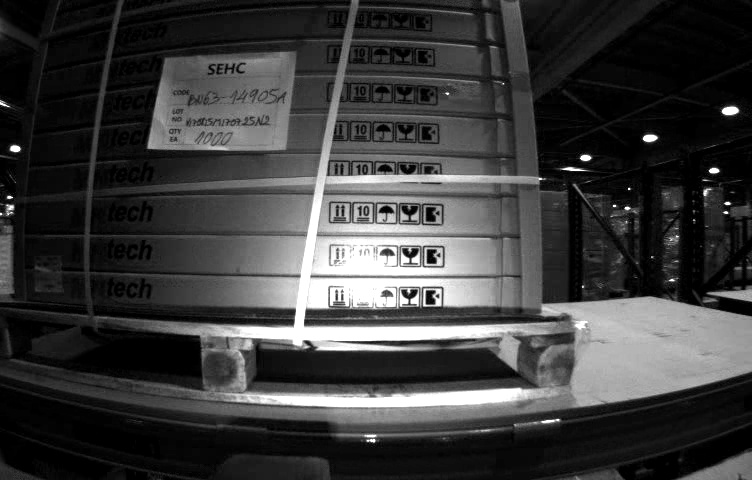True Barcode: (35, 256, 62, 294)
